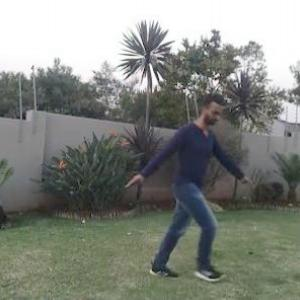land: (128, 84, 253, 282)
